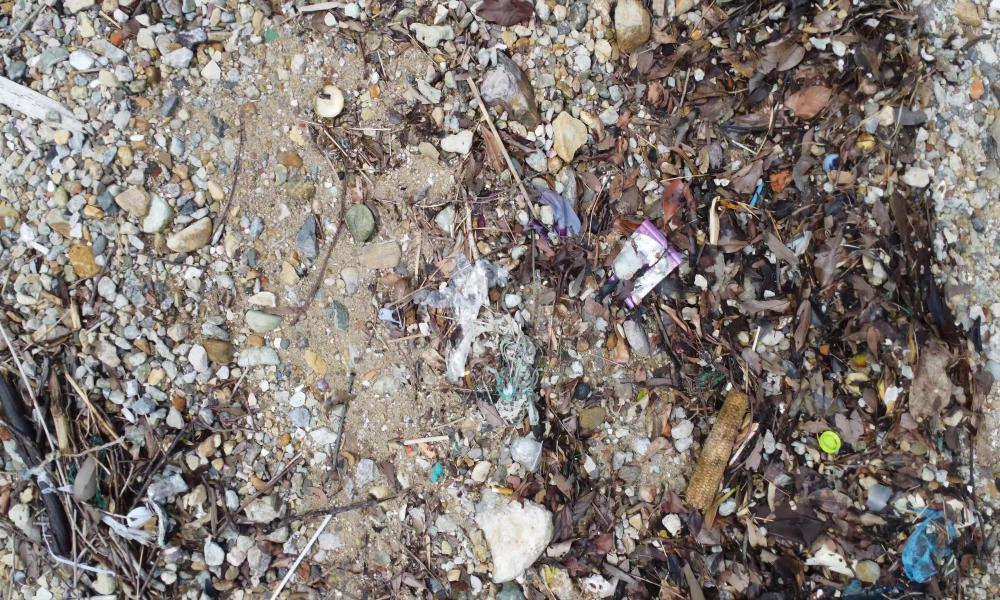plastic container: (453, 258, 495, 382), (613, 225, 677, 301)
